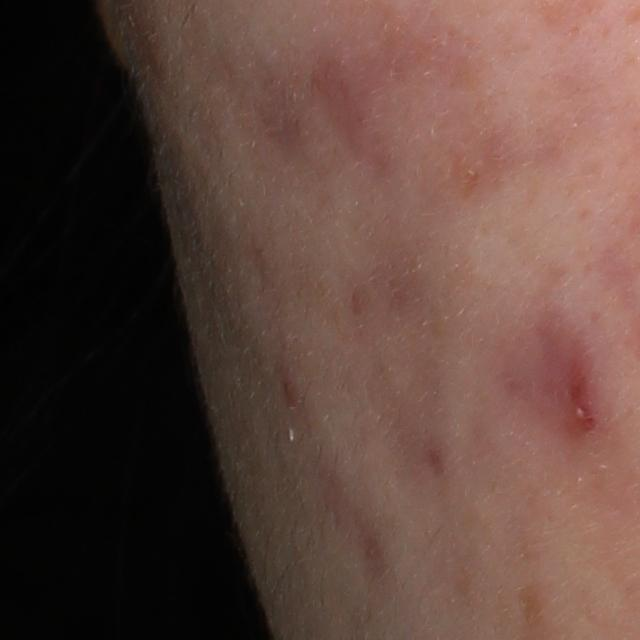papule: (280, 374, 300, 405)
